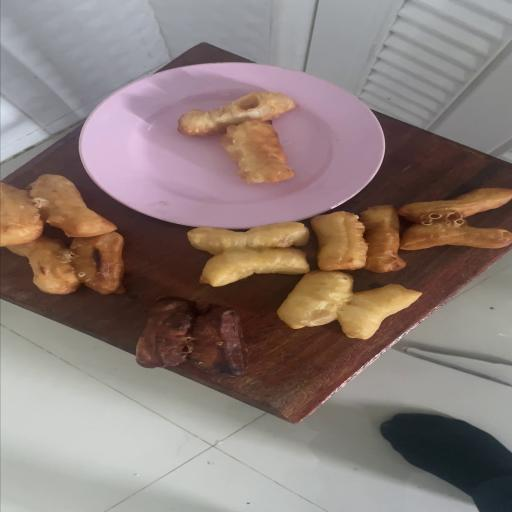street_burnt_defect: (135, 299, 248, 375), (0, 234, 123, 293)
street_golden_good: (187, 221, 309, 287)
